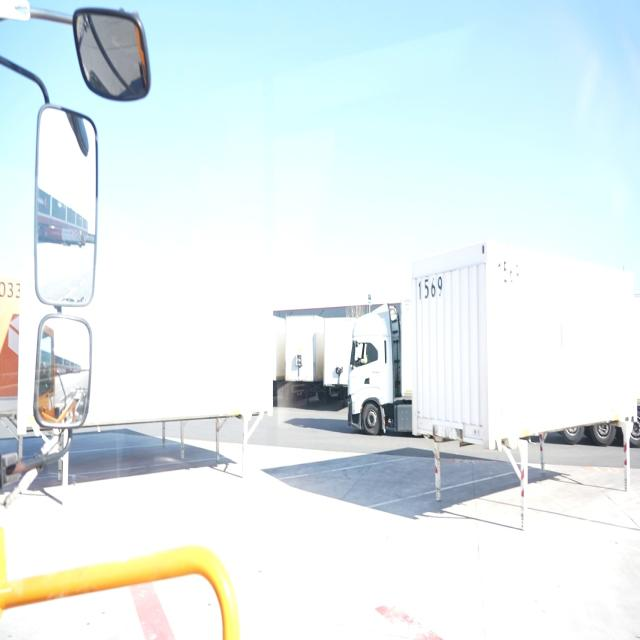Code: (413, 274, 446, 305)
